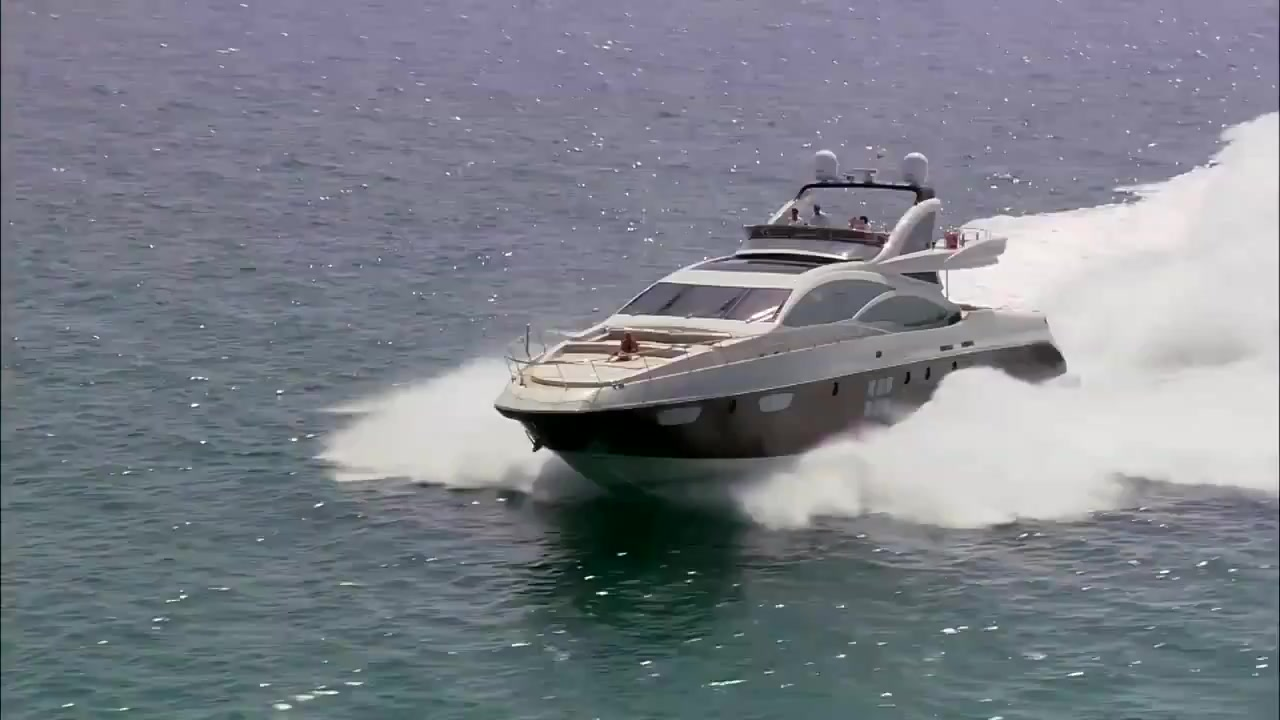boat: (492, 153, 1073, 491)
